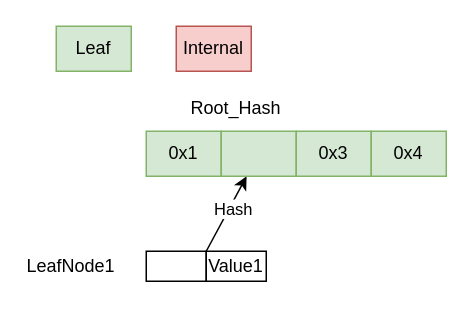
Some shapes in this 473 by 315 pixel diagram are drawn without their labels. The centre of each missing label's shape, as x and y in pixels:
"0x2" goes at point 258,153.
"Key1" goes at point 175,265.
